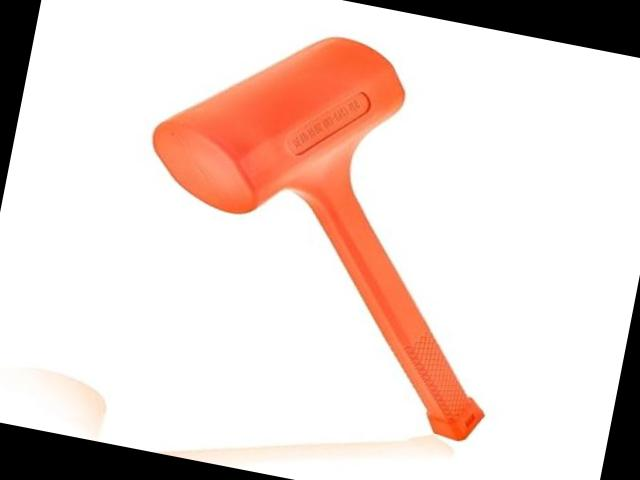hammer: (104, 5, 551, 446)
